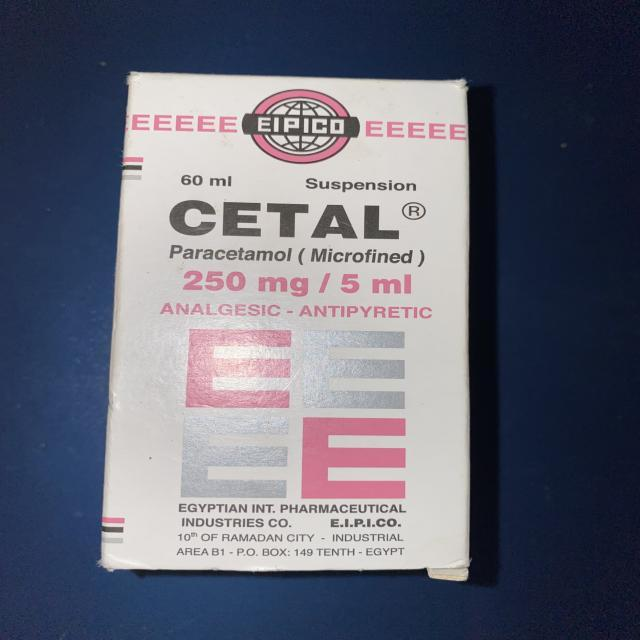Medicine Name: (162, 193, 404, 246)
